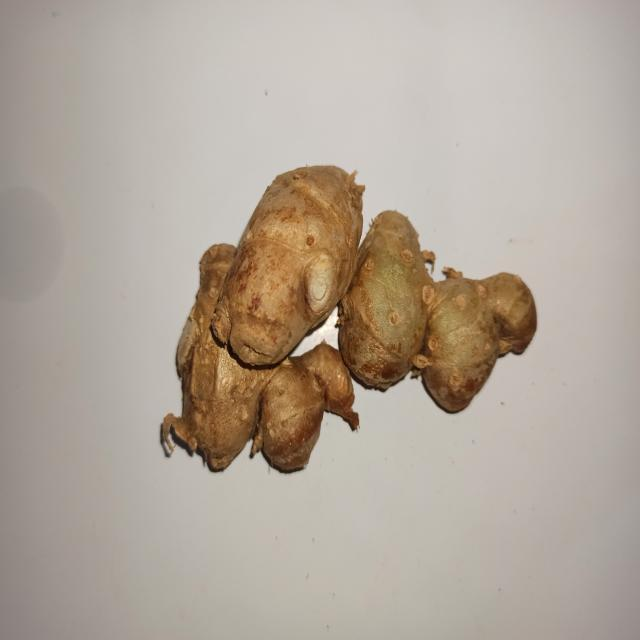ginger: (172, 168, 516, 448)
